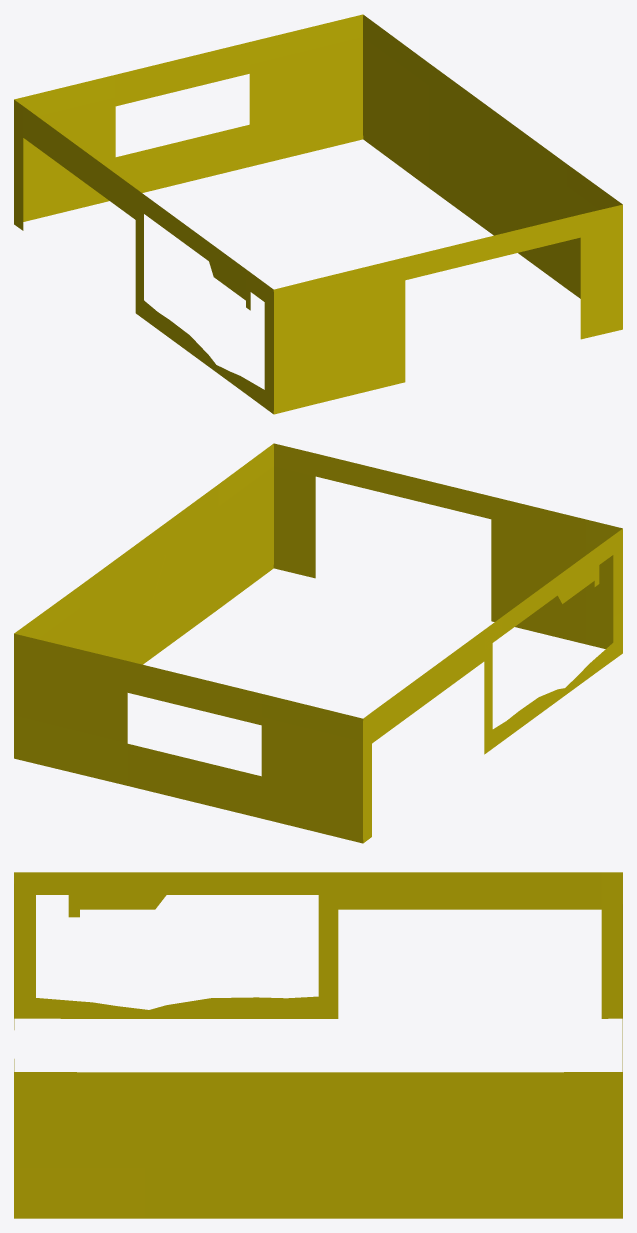
File: BH04_WP_06_Break.fbx
The picture shows the model from 3 angles, top to bottom: view 1: azimuth 30°, elevation 25°; view 2: azimuth 150°, elevation 25°; view 3: azimuth 270°, elevation 25°; orthographic projection. The views are drawn at different scales.
Visible parts, largest first — view 1: BH04_WP_06_Break; view 2: BH04_WP_06_Break; view 3: BH04_WP_06_Break.
Part boxes in pixels (x1=…): BH04_WP_06_Break: x1=14, y1=14, x2=622, y2=414; BH04_WP_06_Break: x1=14, y1=443, x2=622, y2=843; BH04_WP_06_Break: x1=14, y1=872, x2=622, y2=1218.
Size of the model in its own units: 877 by 301 by 1131.
